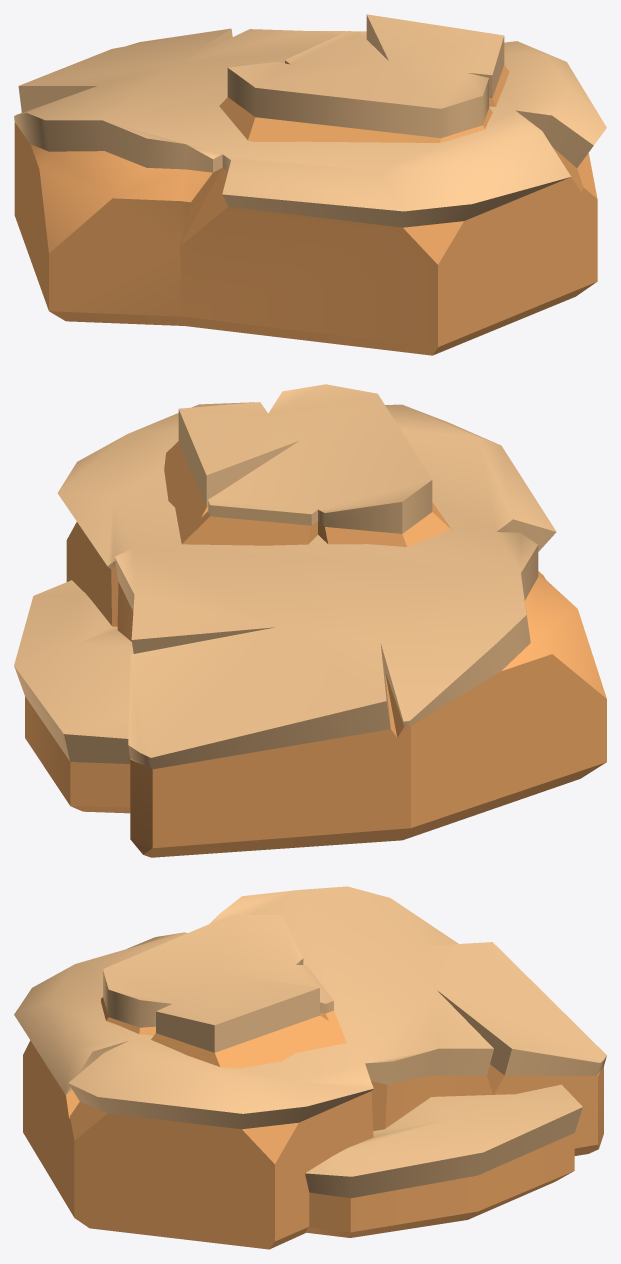
The model's file is Rock_9.fbx.
3 views of the same model, one above another, from view 1: azimuth 30°, elevation 25°; view 2: azimuth 150°, elevation 25°; view 3: azimuth 270°, elevation 25° (orthographic). The views are drawn at different scales.
Visible parts, largest first — view 1: Rock_9, Rock_9_Snow; view 2: Rock_9_Snow, Rock_9; view 3: Rock_9_Snow, Rock_9.
Boxes of the visible parts, x1=… form: Rock_9: x1=14, y1=65, x2=597, y2=355; Rock_9_Snow: x1=14, y1=14, x2=606, y2=227; Rock_9_Snow: x1=14, y1=384, x2=556, y2=769; Rock_9: x1=25, y1=441, x2=606, y2=857; Rock_9_Snow: x1=14, y1=886, x2=606, y2=1198; Rock_9: x1=23, y1=997, x2=603, y2=1249.
Size of the model in its own units: 271 by 115 by 296.
